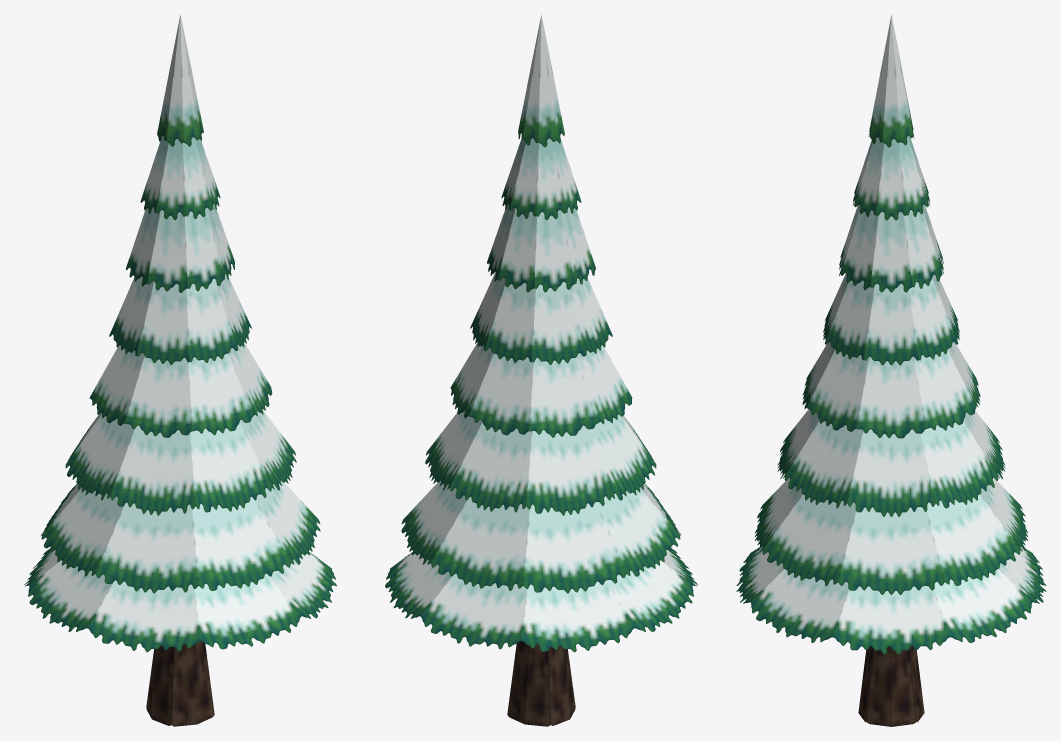
The model's file is pinho.fbx.
The picture shows the model from 3 angles, left to right: view 1: azimuth 30°, elevation 25°; view 2: azimuth 150°, elevation 25°; view 3: azimuth 270°, elevation 25°; orthographic projection.
Visible parts, largest first — view 1: circle, circle_7, circle_1, circle_2, circle_6, circle_3, cube, circle_4, circle_5; view 2: circle, circle_7, circle_1, circle_2, circle_6, circle_3, cube, circle_4, circle_5; view 3: circle, circle_7, circle_1, circle_2, circle_6, circle_3, circle_4, cube, circle_5.
Part boxes in pixels (box(x1,y1,x2,y2)): circle: box(40, 481, 320, 593); circle_7: box(24, 546, 336, 652); circle_1: box(65, 410, 296, 515); circle_2: box(89, 342, 272, 437); circle_6: box(109, 274, 251, 364); circle_3: box(126, 204, 234, 292); cube: box(146, 641, 214, 726); circle_4: box(140, 135, 220, 219); circle_5: box(157, 14, 203, 146); circle: box(401, 481, 681, 593); circle_7: box(385, 546, 697, 652); circle_1: box(425, 410, 656, 515); circle_2: box(450, 342, 632, 437); circle_6: box(470, 272, 612, 364); circle_3: box(487, 204, 595, 292); cube: box(507, 641, 575, 726); circle_4: box(501, 138, 581, 219); circle_5: box(518, 14, 564, 147); circle: box(754, 477, 1028, 594); circle_7: box(736, 546, 1046, 654); circle_1: box(777, 409, 1005, 516); circle_2: box(802, 342, 980, 438); circle_6: box(823, 273, 959, 365); circle_3: box(839, 204, 943, 292); circle_4: box(852, 135, 930, 220); cube: box(858, 646, 924, 726); circle_5: box(868, 14, 914, 147).
Bounding box in the file's own units: 850 × 2112 × 850.
Materials: 1 (1 with a texture image).
